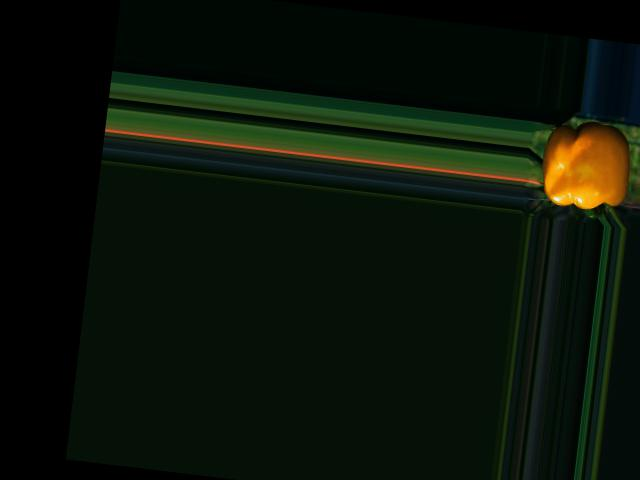bell_pepper: (529, 114, 640, 222)
